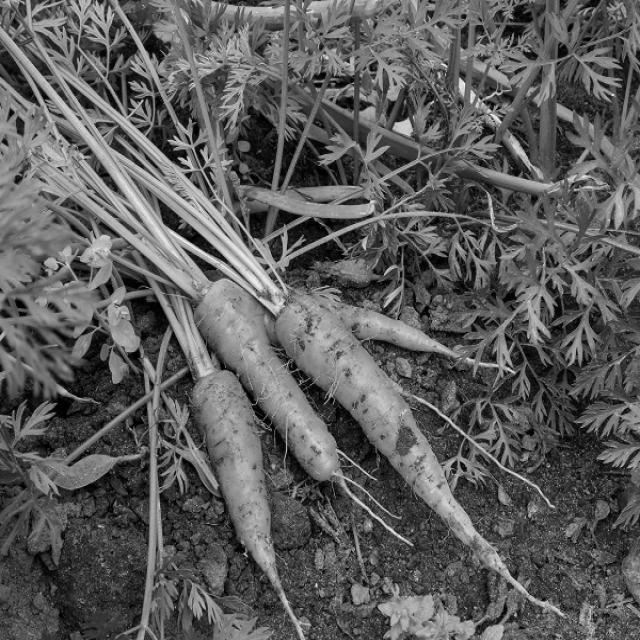carrot: (274, 302, 526, 605), (196, 278, 343, 484), (188, 369, 295, 632), (311, 296, 463, 359)
